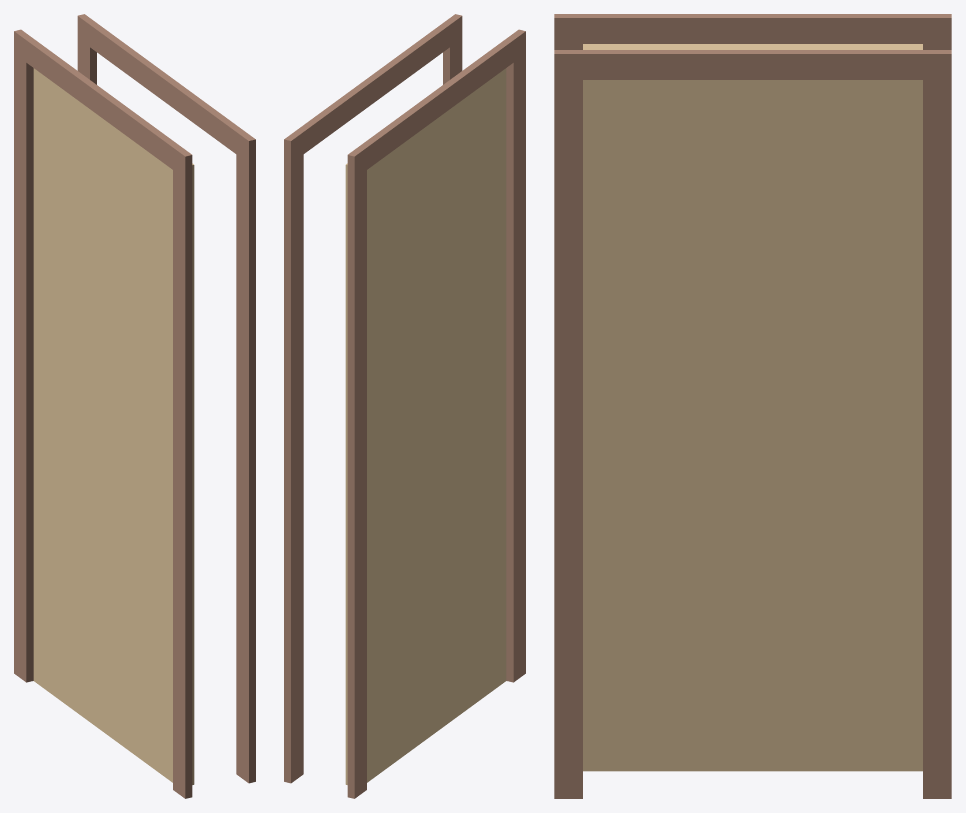
3 views of the same model, side by side, from view 1: azimuth 30°, elevation 25°; view 2: azimuth 150°, elevation 25°; view 3: azimuth 270°, elevation 25° (orthographic). The views are drawn at different scales.
Visible parts, largest first — view 1: 280226; view 2: 280226; view 3: 280226.
Part boxes in pixels (box(x1,y1,x2,y2)): 280226: box(14, 14, 255, 798); 280226: box(284, 14, 525, 798); 280226: box(554, 14, 951, 798).
Size of the model in its own units: 0.25 by 2.18 by 1.05.
